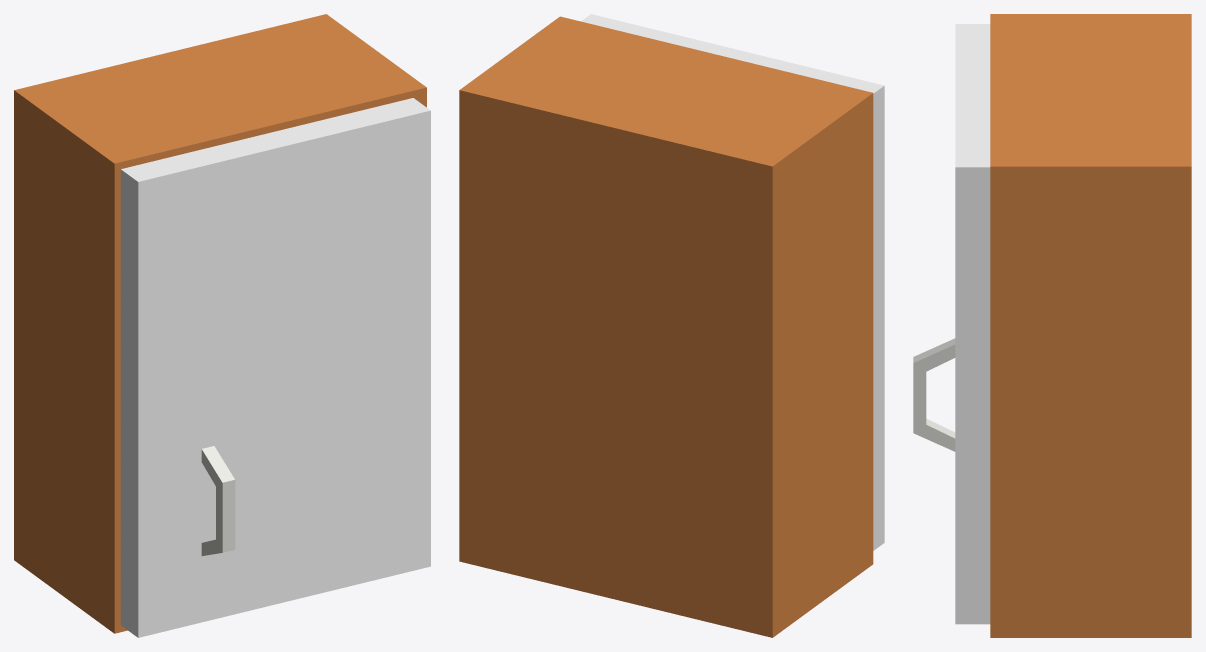
File: Cupboard_1_2.fbx
3 renders of one model, left to right at view 1: azimuth 30°, elevation 25°; view 2: azimuth 150°, elevation 25°; view 3: azimuth 270°, elevation 25°, orthographic.
Parts seen in each view (by area): view 1: polySurface1493; view 2: polySurface1493; view 3: polySurface1493.
Boxes of the visible parts, x1,y1,x2,y2 form: polySurface1493: (14,14,430,637); polySurface1493: (459,14,884,637); polySurface1493: (913,14,1191,637).
Bounding box in the file's own units: 0.6258 × 0.9 × 0.4813.
1 material, 1 textured.
